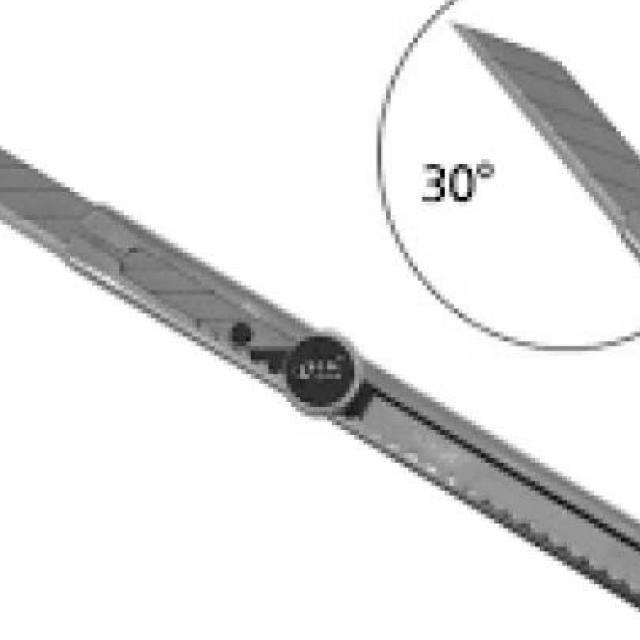estilete: (0, 147, 640, 611), (455, 23, 640, 262)
